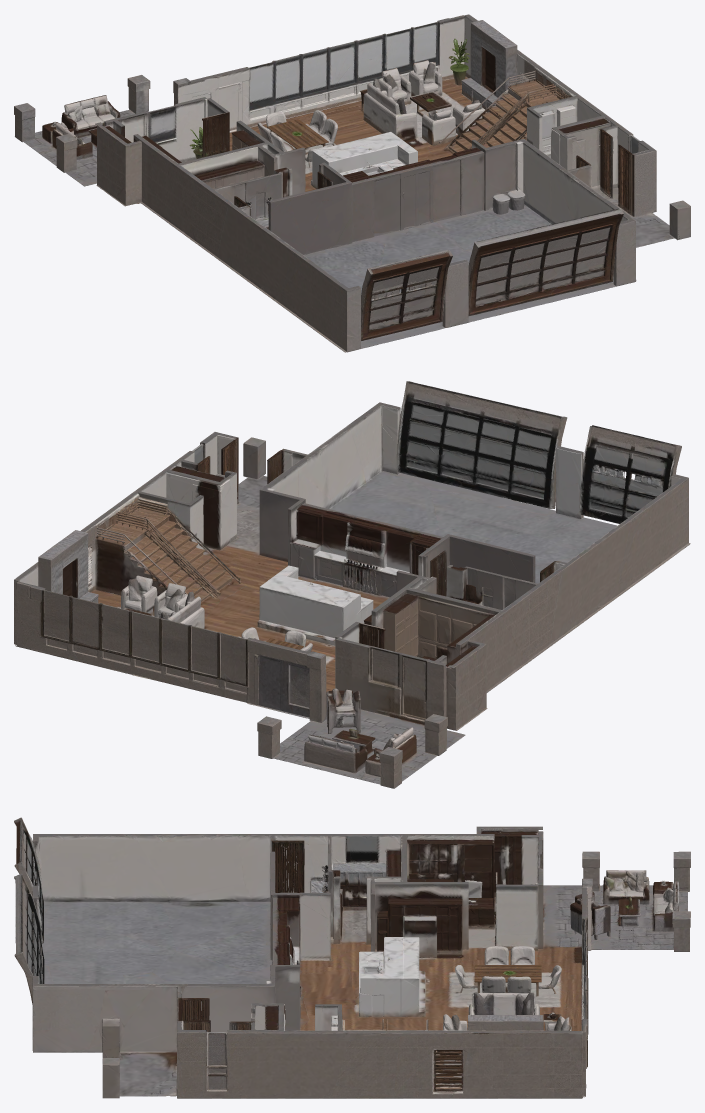
File: dogwood-0.glb
3 views of the same model, one above another, from view 1: azimuth 30°, elevation 25°; view 2: azimuth 150°, elevation 25°; view 3: azimuth 270°, elevation 25° (orthographic). The views are drawn at different scales.
Visible parts, largest first — view 1: geometry_0; view 2: geometry_0; view 3: geometry_0.
Boxes of the visible parts, x1=… form: geometry_0: x1=14, y1=14, x2=690, y2=352; geometry_0: x1=14, y1=381, x2=690, y2=788; geometry_0: x1=14, y1=817, x2=690, y2=1098.
Size of the model in its own units: 15.03 by 3 by 20.11.
1 material, 1 textured.
